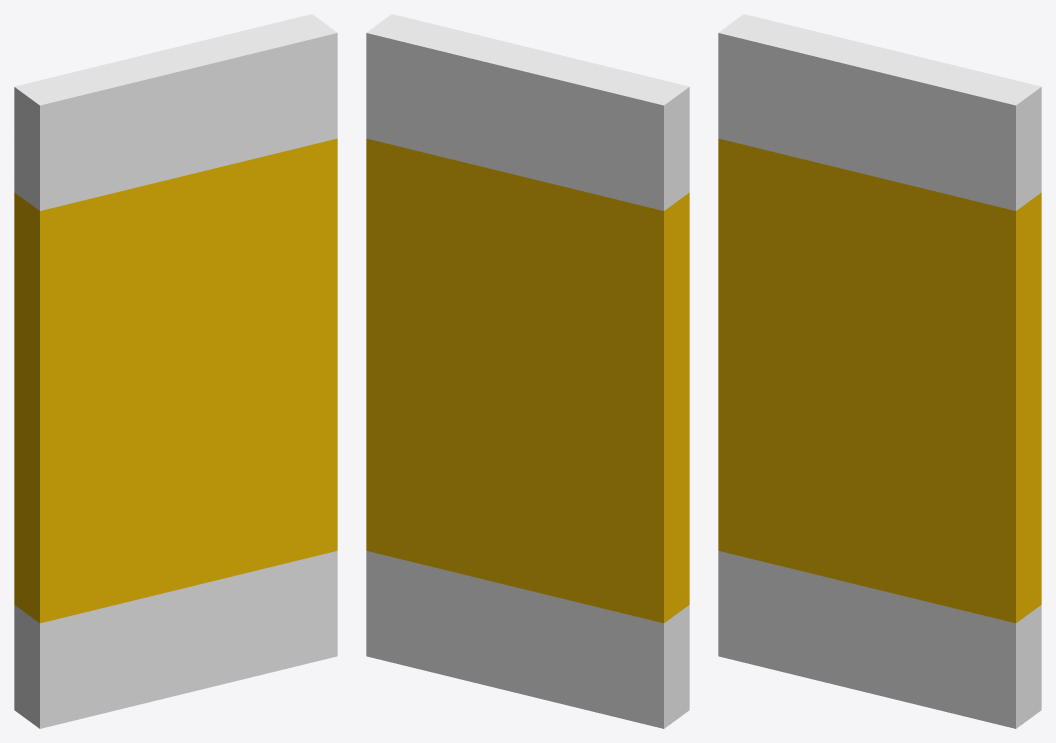
Rendered from TwoColouredWall.glb.
The picture shows the model from 3 angles, left to right: view 1: azimuth 30°, elevation 25°; view 2: azimuth 150°, elevation 25°; view 3: azimuth 330°, elevation 25°; orthographic projection.
Parts seen in each view (by area): view 1: wall_twoCol; view 2: wall_twoCol; view 3: wall_twoCol.
Boxes of the visible parts, bbox=[...] form: wall_twoCol: bbox=[14, 14, 337, 728]; wall_twoCol: bbox=[366, 14, 689, 728]; wall_twoCol: bbox=[718, 14, 1041, 728].
Size of what is drawn, in the model's own units: 2 by 4 by 0.3.
1 material, 1 textured.
